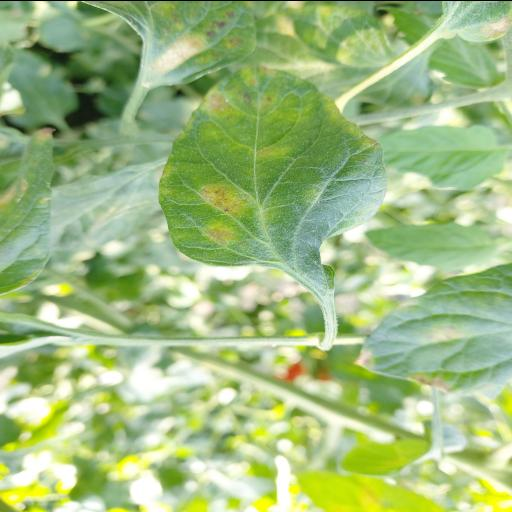disease_tomato: (157, 64, 387, 268), (352, 263, 512, 403)
